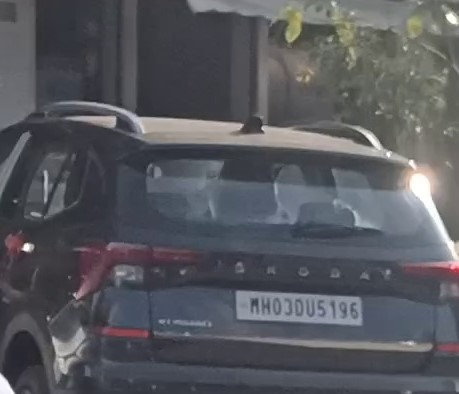MH03DU5196: (236, 289, 363, 326)
